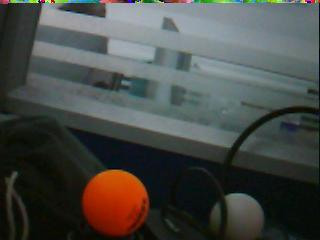oball: (83, 169, 149, 237)
